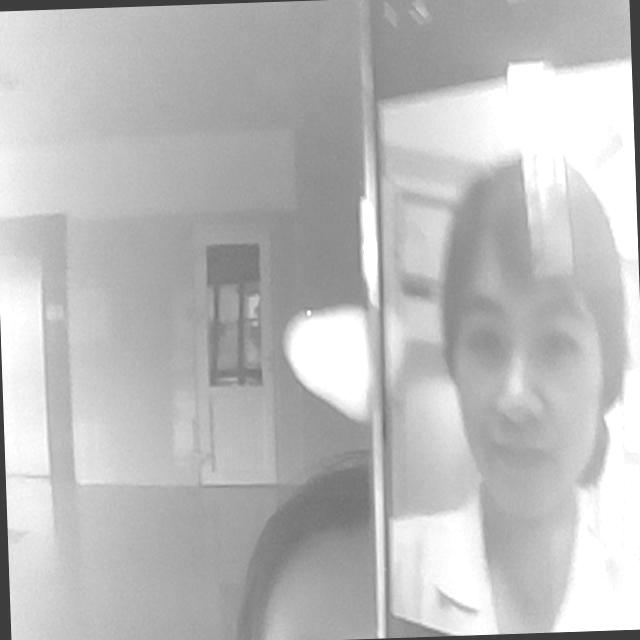fake: (348, 0, 640, 636)
